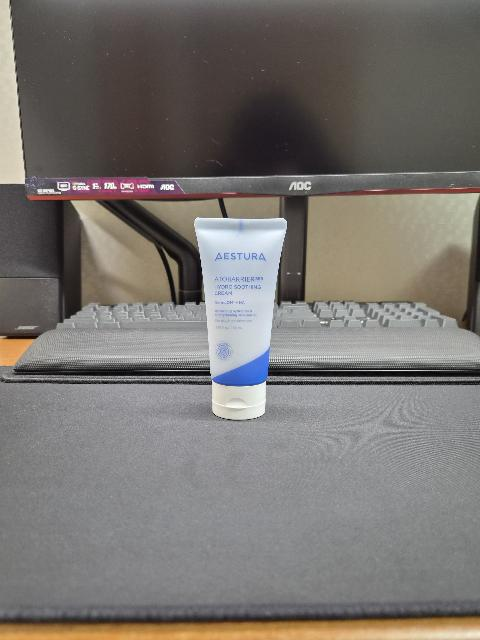handcream: (194, 217, 287, 420)
